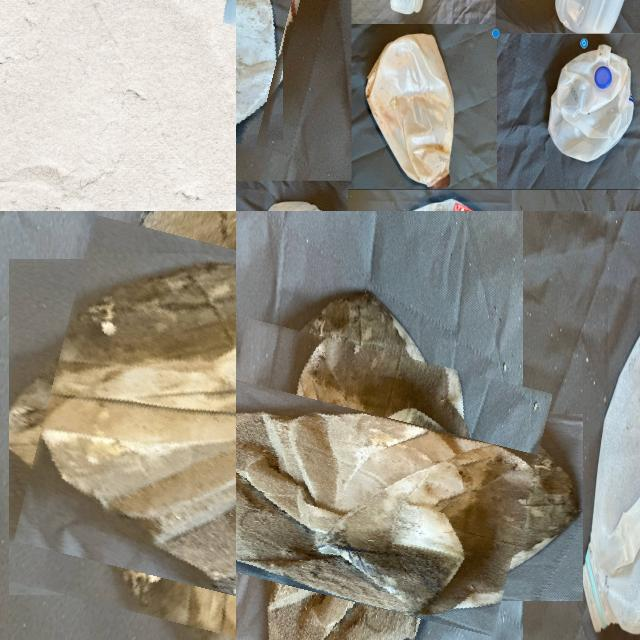milk-jug: (236, 334, 536, 640), (26, 211, 236, 640), (581, 259, 640, 640), (362, 29, 459, 186), (543, 44, 635, 162), (557, 0, 640, 37)
